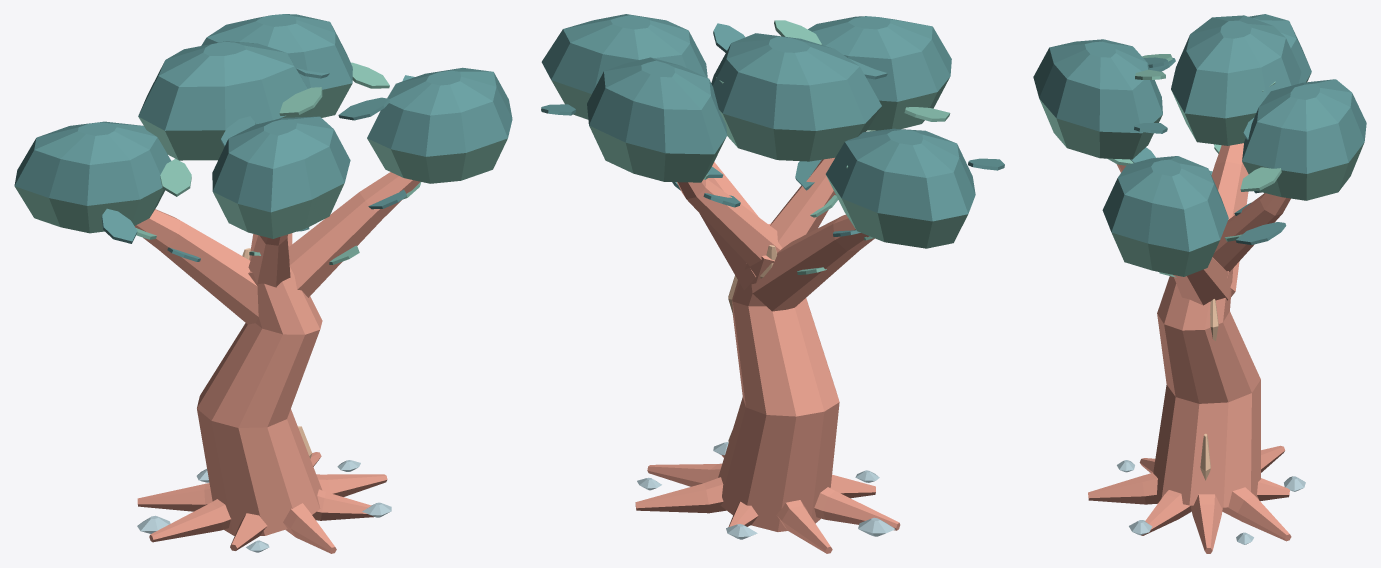
File: lagoon_tree_pacific_madrone.glb
3 renders of one model, left to right at view 1: azimuth 30°, elevation 25°; view 2: azimuth 150°, elevation 25°; view 3: azimuth 270°, elevation 25°, orthographic. The views are drawn at different scales.
Visible parts, largest first — view 1: lagoon_tree_pacific_madrone.001; view 2: lagoon_tree_pacific_madrone.001; view 3: lagoon_tree_pacific_madrone.001.
Boxes of the visible parts, x1,y1,x2,y2 form: lagoon_tree_pacific_madrone.001: [14, 14, 512, 553]; lagoon_tree_pacific_madrone.001: [541, 14, 1004, 553]; lagoon_tree_pacific_madrone.001: [1033, 14, 1366, 553].
Size of the model in its own units: 7.66 by 7.56 by 4.94.
